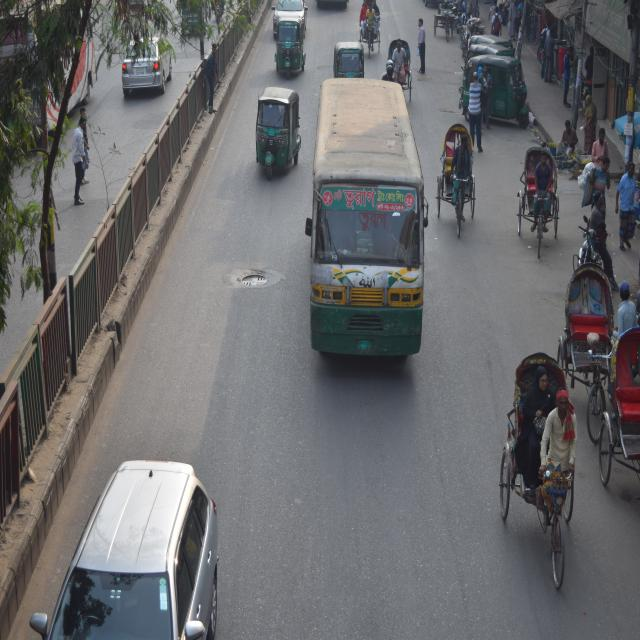bus: (302, 68, 442, 386)
car: (34, 448, 223, 640), (119, 17, 179, 101)
